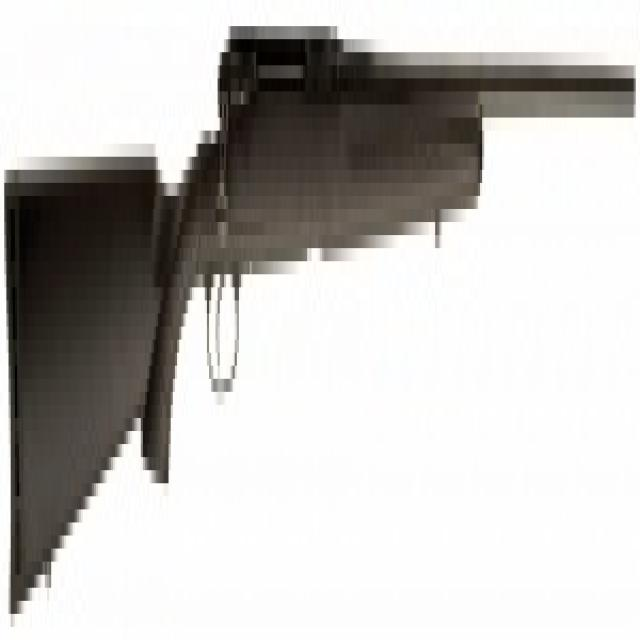rifle: (3, 1, 640, 615)
